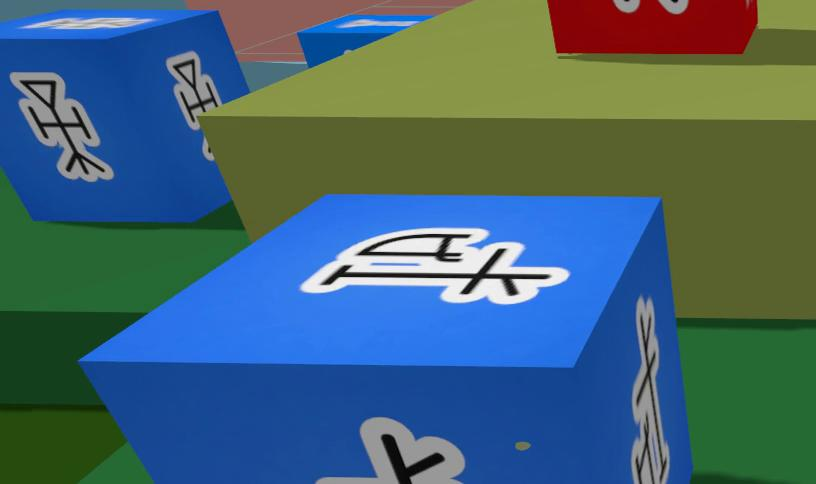KFS_FAKE: (545, 0, 759, 56), (658, 0, 689, 13), (612, 0, 639, 12)
KFS_REAL: (78, 203, 699, 484), (0, 9, 252, 222), (302, 238, 570, 308), (10, 73, 114, 182), (315, 418, 463, 484), (294, 11, 433, 68), (631, 305, 668, 484), (166, 52, 220, 131), (22, 17, 152, 28)
